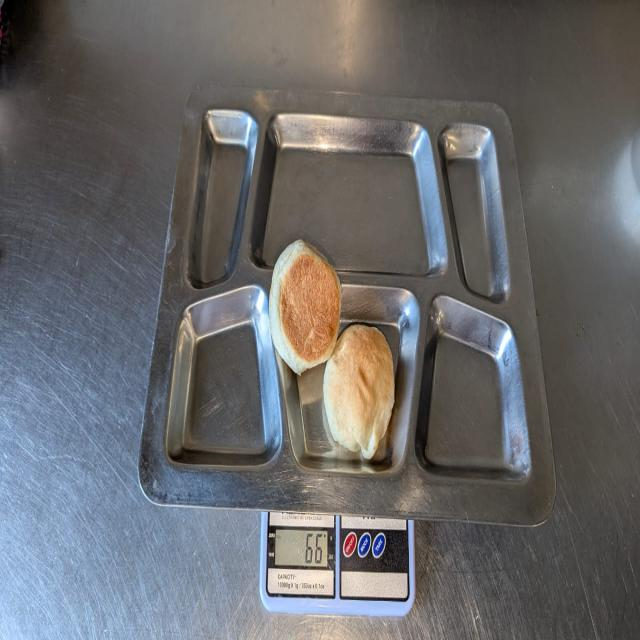Bread: (274, 255, 392, 446)
